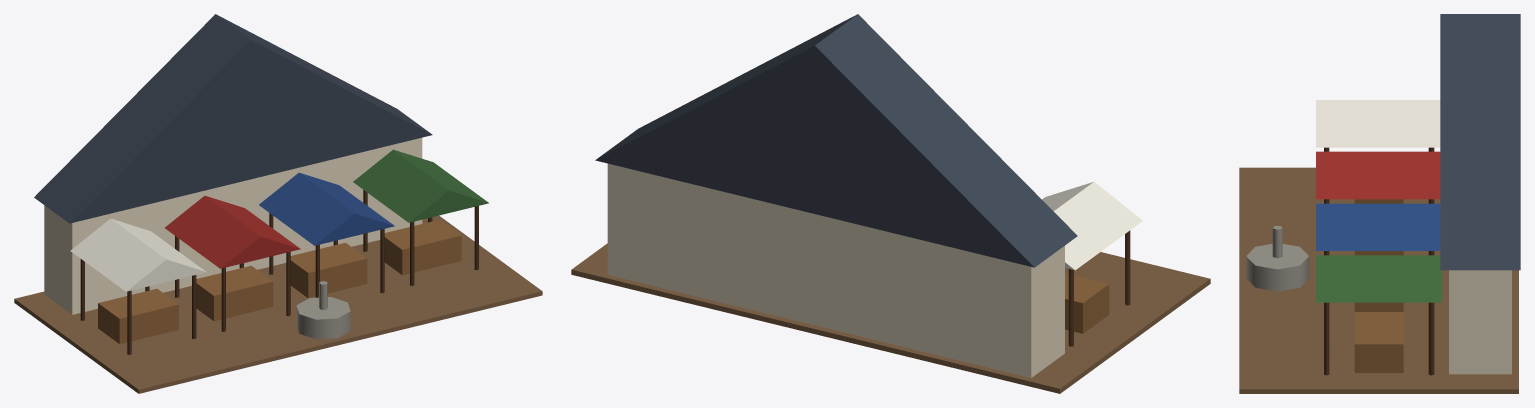
The model's file is bld_special_market_a03_lod1.glb.
The picture shows the model from 3 angles, left to right: view 1: azimuth 30°, elevation 25°; view 2: azimuth 150°, elevation 25°; view 3: azimuth 270°, elevation 25°; orthographic projection. The views are drawn at different scales.
Parts seen in each view (by area): view 1: body; view 2: body; view 3: body.
Part boxes in pixels (left/top/right/bottom): body: left=14, top=14, right=542, bottom=393; body: left=571, top=14, right=1210, bottom=393; body: left=1239, top=14, right=1520, bottom=393.
Bounding box in the file's own units: 15 × 8.49 × 8.05.
